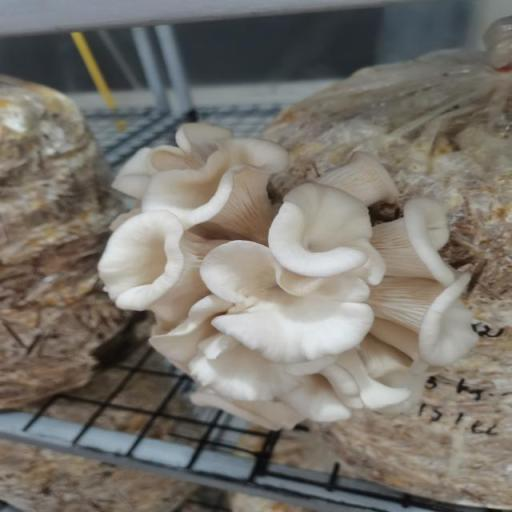White Oyster Mushroom: (102, 117, 482, 431)
